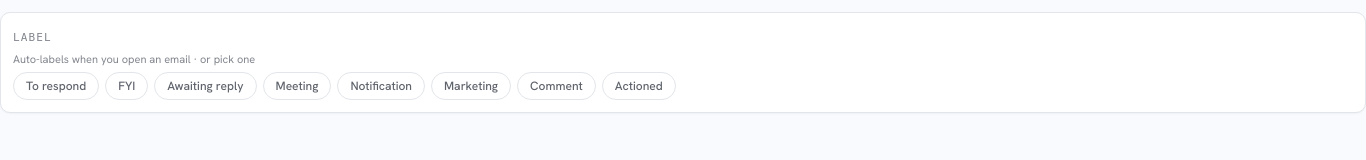
Test: LabelBar (free Office.js categories) › surfaces an error when applying a label fails
This screenshot has width=1366, height=160.
Click the button "FYI": {"x": 127, "y": 86} [105,72,148,100]
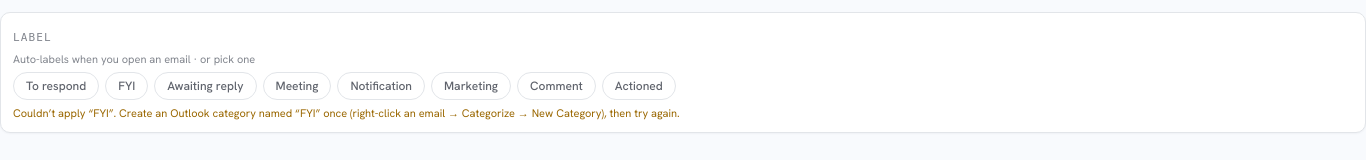
Expected: the text "Couldn" is shown, [13,106,680,120]
